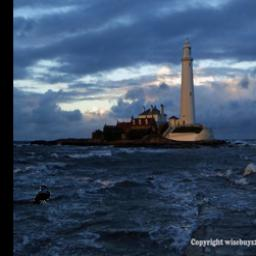Crow: (32, 186, 50, 205)
